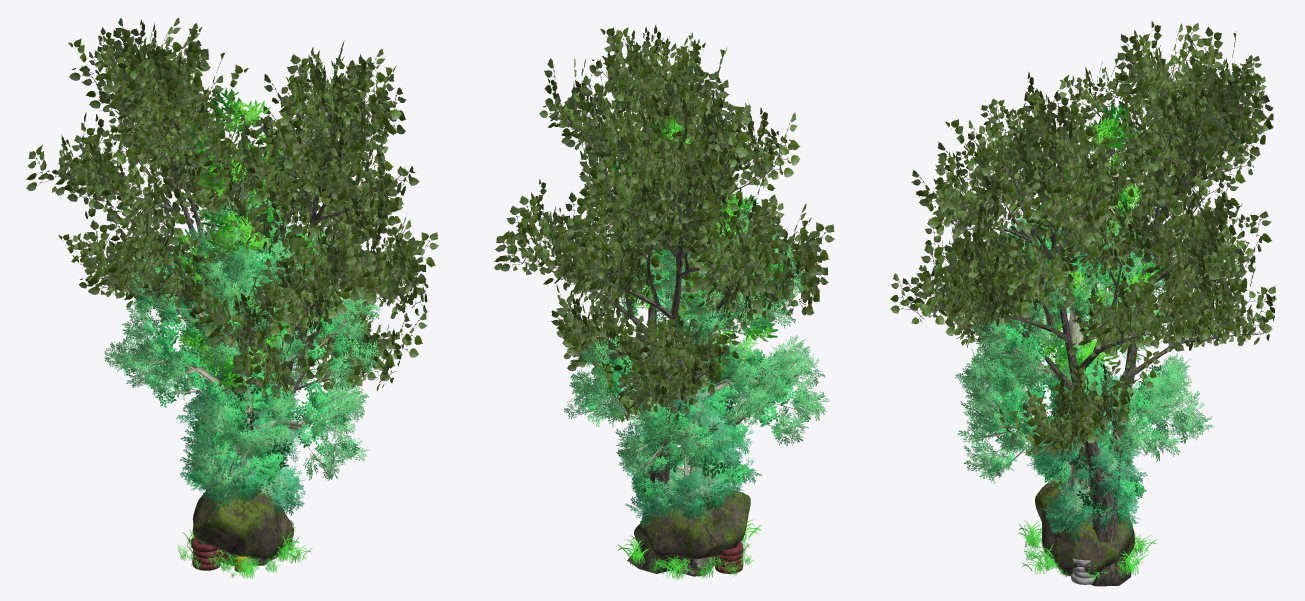
Rendered from scenery2.glb.
3 renders of one model, left to right at view 1: azimuth 30°, elevation 25°; view 2: azimuth 150°, elevation 25°; view 3: azimuth 270°, elevation 25°, orthographic.
Parts seen in each view (by area): view 1: AT_Linden_m, AT_2_m, AT_Slim_m, AT_1_m, RK_Medium_m, AT_4_m, OB_TireWall_m; view 2: AT_Linden_m, AT_2_m, AT_1_m, RK_Medium_m, AT_Slim_m, AT_4_m, OB_TireWall_m, RK_Rock_m; view 3: AT_Linden_m, AT_2_m, AT_1_m, AT_Slim_m, RK_Medium_m, AT_4_m.
Boxes of the visible parts, x1,y1,x2,y2 form: AT_Linden_m: [25, 17, 438, 464]; AT_2_m: [104, 185, 383, 565]; AT_Slim_m: [173, 88, 317, 578]; AT_1_m: [176, 367, 306, 517]; RK_Medium_m: [192, 482, 293, 559]; AT_4_m: [190, 346, 295, 503]; OB_TireWall_m: [191, 520, 293, 570]; AT_Linden_m: [494, 25, 834, 573]; AT_2_m: [564, 208, 828, 480]; AT_1_m: [618, 383, 761, 527]; RK_Medium_m: [634, 486, 750, 563]; AT_Slim_m: [608, 117, 783, 580]; AT_4_m: [633, 342, 752, 510]; OB_TireWall_m: [710, 542, 743, 573]; RK_Rock_m: [675, 557, 713, 576]; AT_Linden_m: [890, 21, 1276, 586]; AT_2_m: [955, 207, 1213, 498]; AT_1_m: [1027, 368, 1147, 543]; AT_Slim_m: [1006, 104, 1163, 581]; RK_Medium_m: [1035, 478, 1134, 576]; AT_4_m: [1028, 343, 1146, 518].
Bounding box in the file's own units: 13.92 × 20.15 × 14.54.
35 materials, 32 textured.
